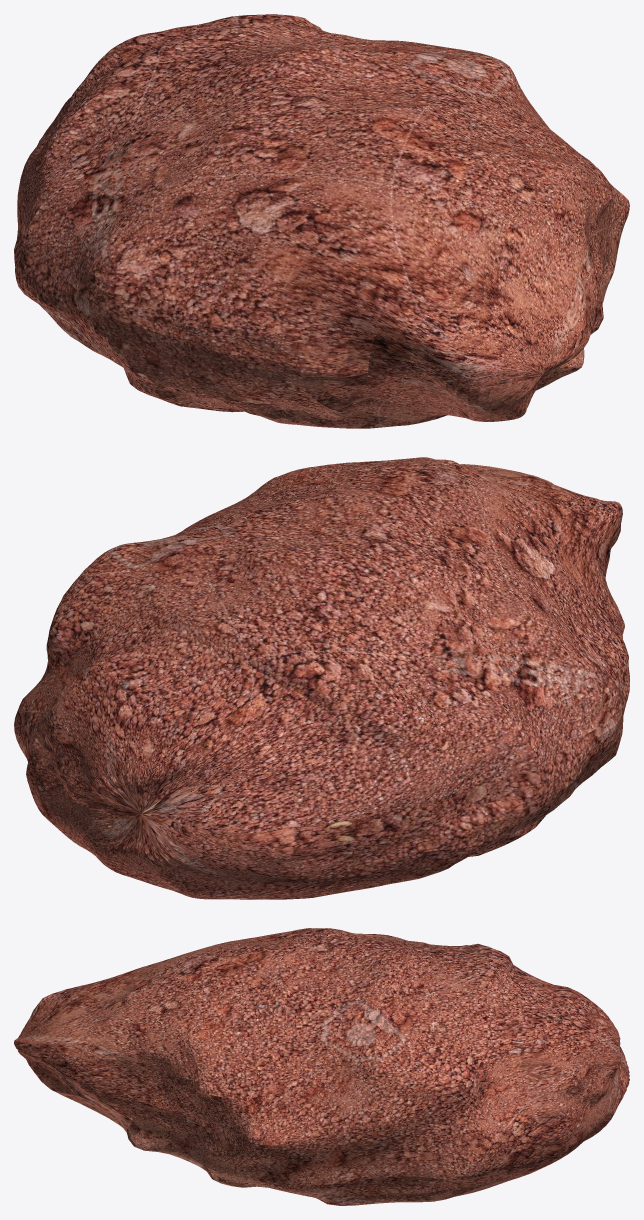
The model's file is Rock1.fbx.
3 renders of one model, top to bottom at view 1: azimuth 30°, elevation 25°; view 2: azimuth 150°, elevation 25°; view 3: azimuth 270°, elevation 25°, orthographic. The views are drawn at different scales.
Parts seen in each view (by area): view 1: Sphere; view 2: Sphere; view 3: Sphere.
Boxes of the visible parts, x1,y1,x2,y2 form: Sphere: (14, 14, 629, 428); Sphere: (14, 457, 629, 899); Sphere: (14, 928, 629, 1205).
Size of the model in its own units: 175 by 100 by 254.
1 material, 1 textured.
